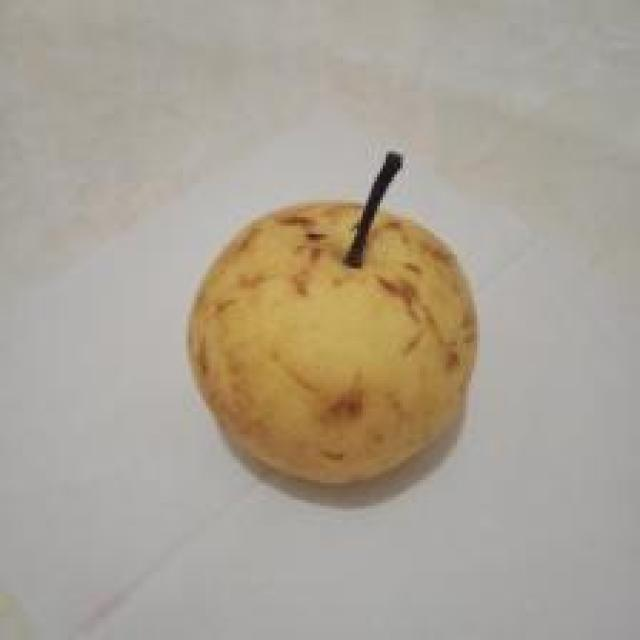rotten apple: (166, 131, 512, 551)
